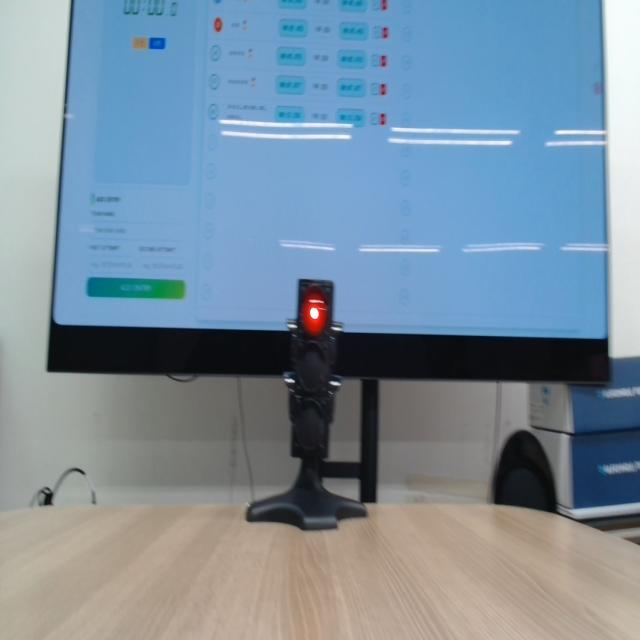red_light: (301, 287, 327, 336)
